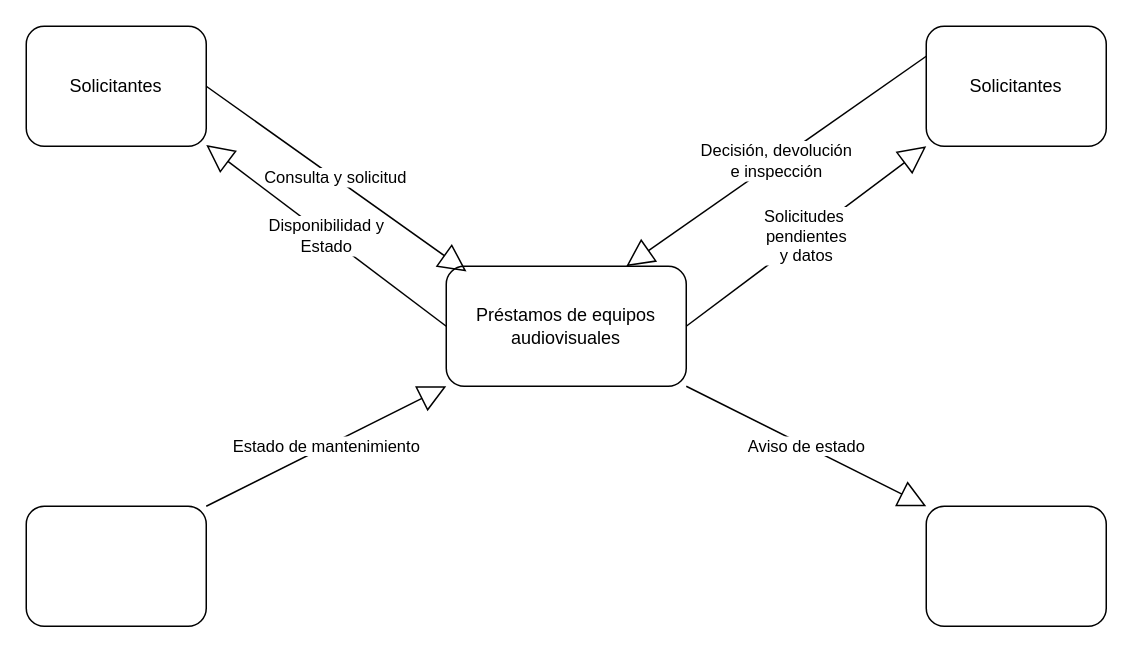
This 1133x653 diagram has some shape labels left out. Here are the shapes that lost their labels. From the top down, the centre of each, then its label:
pixel 115 565: Responsable de mantenimiento
pixel 1015 565: Servicios de notificaciones
